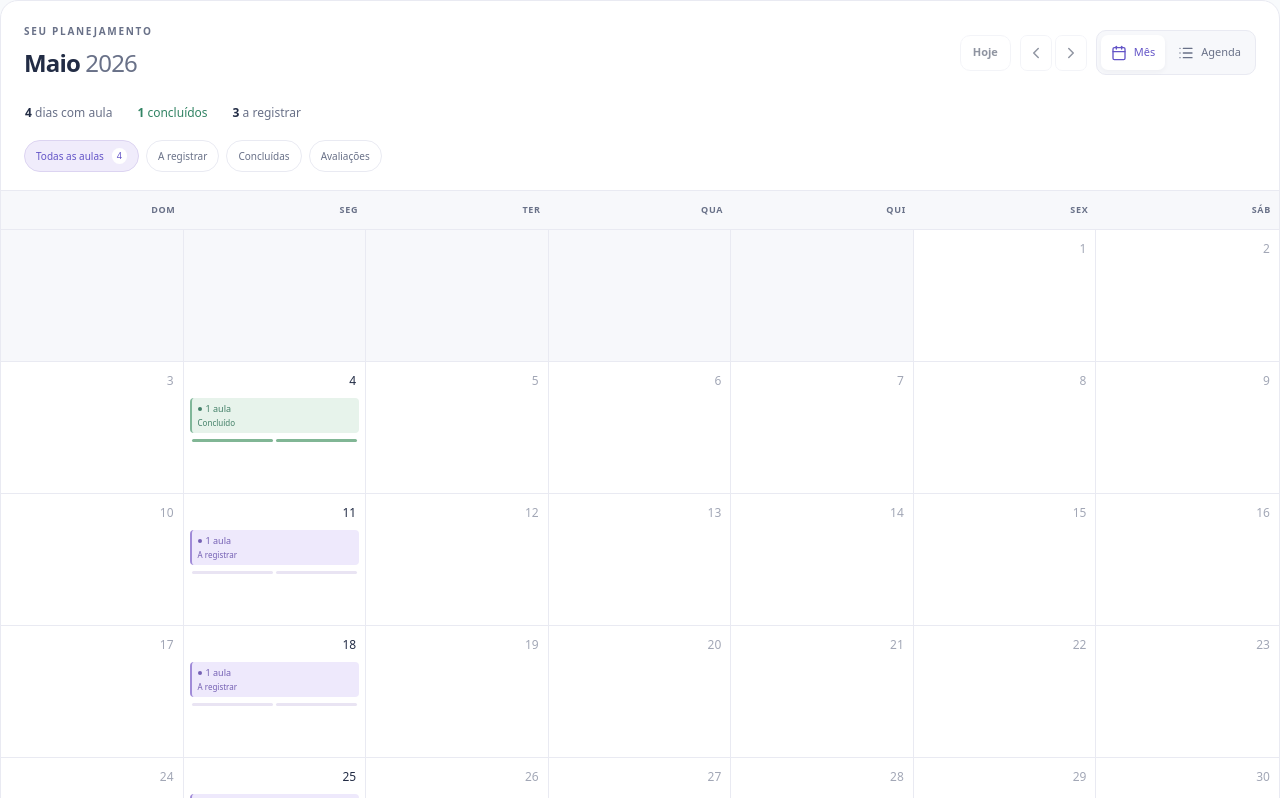
Test: comunica ausência de avaliações sem esconder o filtro
Click the button "Agenda": (1210, 52) [1168,35,1251,70]
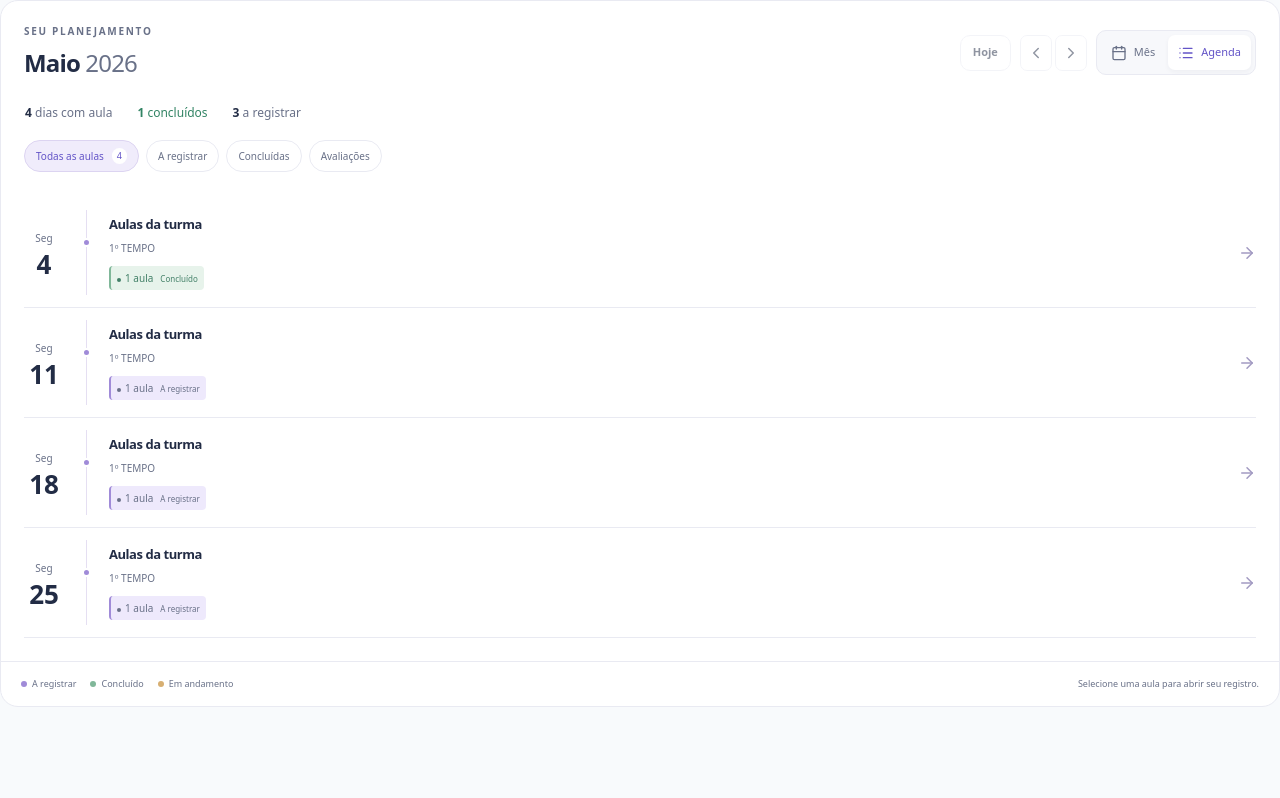
Click the button "Avaliações": (345, 156) [309,140,382,172]
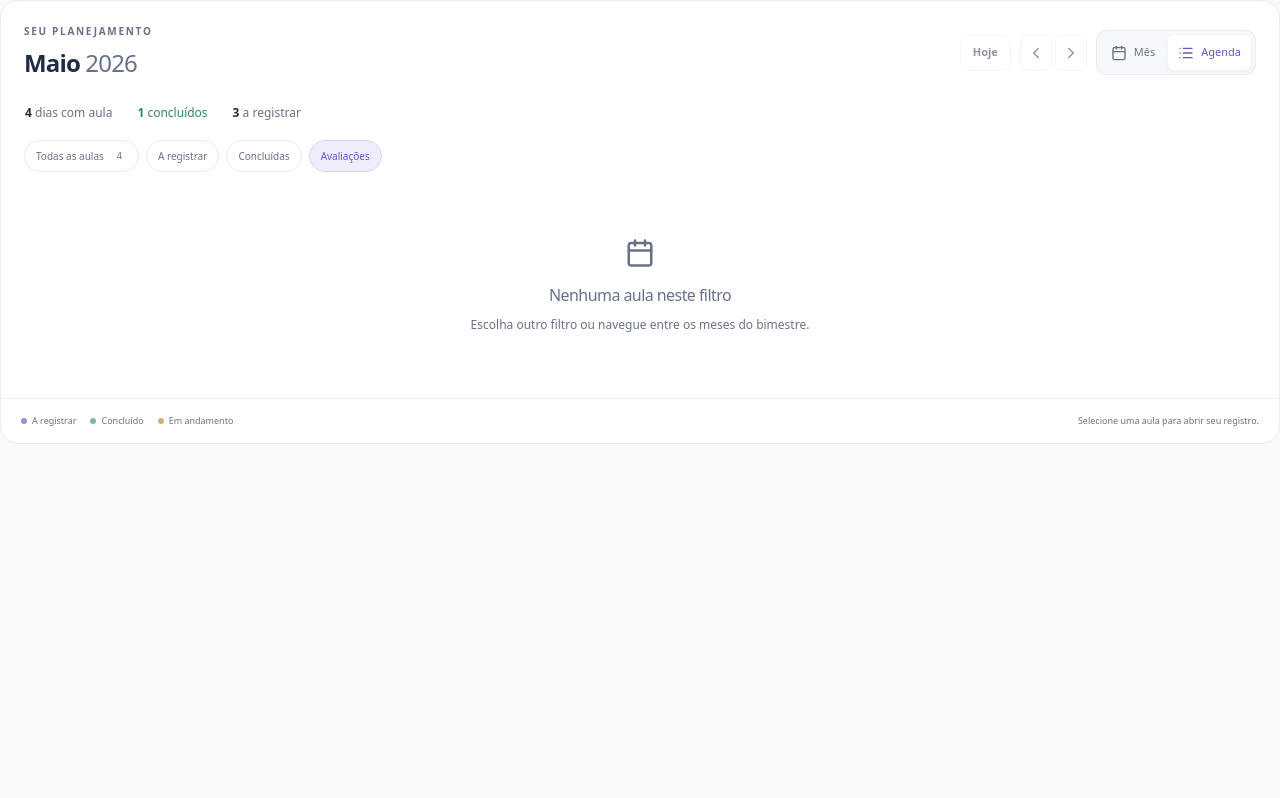
Expected: the heading "Nenhuma aula neste filtro" is shown, [549,284,731,306]
